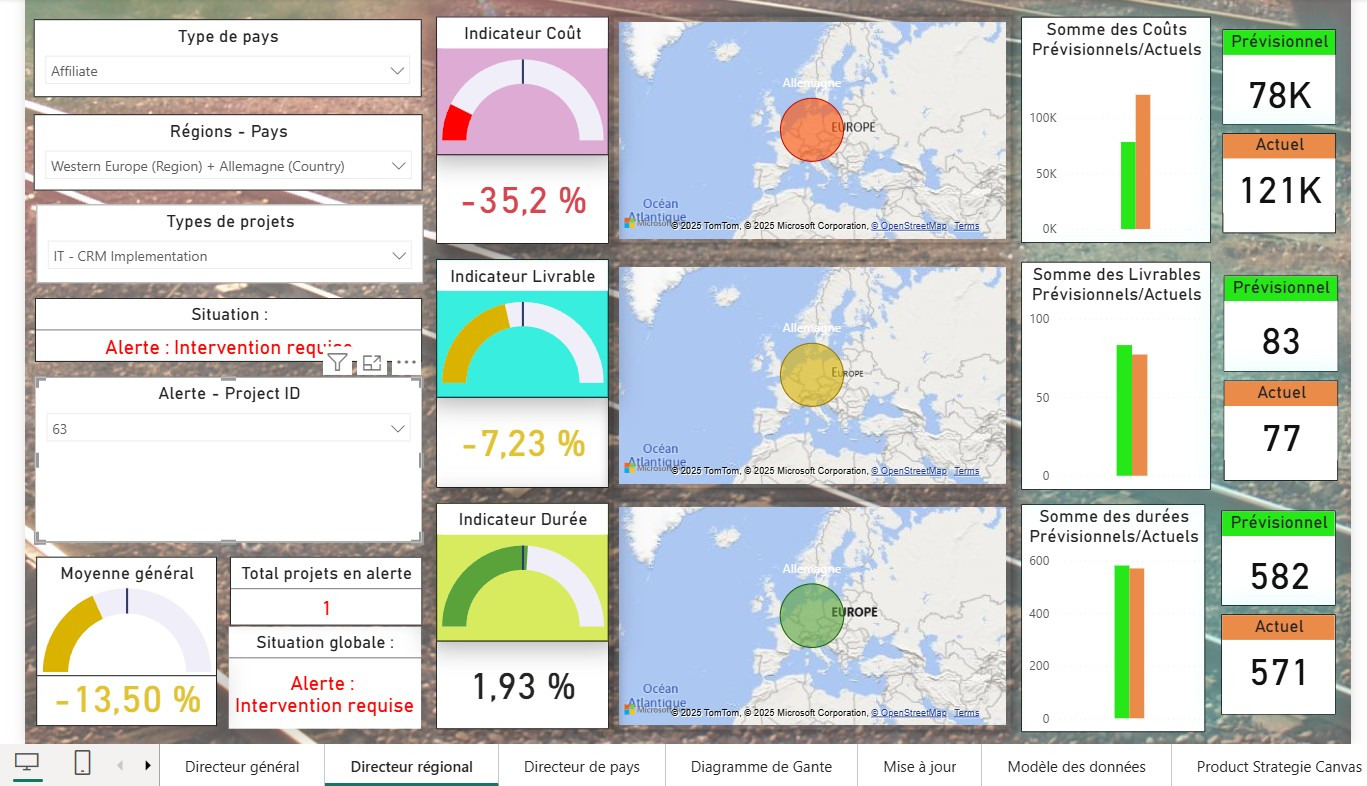

This screenshot's page, from the dashboard's own definition file:
{"tool":"powerbi","page":{"name":"Directeur régional","canvas":[1280,720],"ordinal":1},"visuals":[{"type":"clusteredColumnChart","title":"Somme des Coûts Prévisionnels/Actuels","fields":{"Y":["Sum(Data Par Projet.Planned Cost Par Projet)","Sum(Data Par Projet.Actual Cost Par Projet)"]},"box":[961,18.6,183.1,218.6],"z":0},{"type":"card","title":"Indicateur Livrable","fields":{"Values":["Projects_plans.Indicateur Livrable"]},"box":[396.6,384.7,166.1,88.1],"z":1000},{"type":"clusteredColumnChart","title":"Somme des durées Prévisionnels/Actuels","fields":{"Y":["Projects_plans.SommeDuréePrévisionnels","Actual Duration.SommeDuréeActuel"]},"box":[961,488.1,178,220.3],"z":2000},{"type":"clusteredColumnChart","title":"Somme des Livrables Prévisionnels/Actuels","fields":{"Y":["Projects_plans.SommeLivrablesPrévisionnels","Actual Delivrables.SommeLivrablesActuels"]},"box":[961,254.2,183.1,220.3],"z":3000},{"type":"map","fields":{"Size":["Projects_plans.TailleCoût"],"Category":["Country_Location.Country"]},"box":[567.8,18.6,383.1,218.6],"z":4000},{"type":"card","title":"Situation globale :","fields":{"Values":["Data Par Projet.IndicateurAlerteStatique"]},"box":[197.2,606.9,185.6,98.2],"z":5000},{"type":"map","fields":{"Size":["Projects_plans.TailleLivrablme"],"Category":["Country_Location.Country"]},"box":[567.8,254.2,383.1,218.6],"z":6000},{"type":"map","fields":{"Size":["Projects_plans.TailleDurée"],"Category":["Country_Location.Country"]},"box":[567.8,486.4,383.1,220.3],"z":7000},{"type":"gauge","title":"Indicateur Livrable","fields":{"Y":["Projects_plans.Indicateur Livrable Valeur"]},"box":[396.6,252.5,166.1,133.9],"z":8000},{"type":"card","title":"Indicateur Livrable","fields":{"Values":["Projects_plans.Indicateur Coûts"]},"box":[396.6,150.8,166.1,86.4],"z":9000},{"type":"gauge","title":"Indicateur Coût","fields":{"Y":["Projects_plans.Indicateur Coûts Valeur"]},"box":[396.6,18.6,166.1,133.9],"z":10000},{"type":"card","title":"Indicateur Livrable","fields":{"Values":["Projects_plans.Indicateur Durée"]},"box":[397.3,620.5,166.2,85.5],"z":11000},{"type":"gauge","title":"Indicateur Durée","fields":{"Y":["Projects_plans.Indicateur Durée Valeur"]},"box":[396.5,487.2,166.3,133.7],"z":12000},{"type":"card","title":"Total projets en alerte","fields":{"Values":["Data Par Projet.NombreProjetsAlerteSansFiltre"]},"box":[197.5,539.7,185.2,66.5],"z":13000},{"type":"cardVisual","title":"Prévisionnel","fields":{"Data":["Projects_plans.SommeCoûtsPrévisionnels"]},"box":[1155.8,30.3,109.2,91.8],"z":14000},{"type":"cardVisual","title":"Actuel","fields":{"Data":["Actual_Costs.SommeCoûtsActuels"]},"box":[1155.8,130,109.2,96.6],"z":15000},{"type":"cardVisual","title":"Prévisionnel","fields":{"Data":["Projects_plans.SommeLivrablesPrévisionnels"]},"box":[1157.4,268,110,92.5],"z":16000},{"type":"cardVisual","title":"Actuel","fields":{"Data":["Actual Delivrables.SommeLivrablesActuels"]},"box":[1157.5,368.8,110.4,96.6],"z":17000},{"type":"cardVisual","title":"Prévisionnel","fields":{"Data":["Projects_plans.SommeDuréePrévisionnels"]},"box":[1154.6,494.9,110.4,92],"z":18000},{"type":"cardVisual","title":"Actuel","fields":{"Data":["Actual Duration.SommeDuréeActuel"]},"box":[1154.6,594.6,110.4,96.6],"z":19000},{"type":"card","title":"Indicateur Livrable","fields":{"Values":["Projects_plans.Indicateur Moyenne"]},"box":[10.7,648.9,174.1,53.8],"z":20000},{"type":"gauge","title":"Moyenne général","fields":{"Y":["Projects_plans.Indicateur Moyenne Valeur"]},"box":[10.7,539.7,174.1,115.6],"z":21000},{"type":"slicer","title":"Régions - Pays","fields":{"Values":["Country_Location.Region","Country_Location.Country"]},"box":[7.9,112,375.4,73.6],"z":22000},{"type":"slicer","title":"Types de projets","fields":{"Values":["Project type.Project Type"]},"box":[11.1,199.4,373.6,76],"z":23000},{"type":"slicer","title":"Alerte - Project ID","fields":{"Values":["Data Par Projet.ID","Data Par Projet.AlerteParProjet"]},"box":[9.5,365.7,373.6,159.9],"z":24000},{"type":"slicer","title":"Type de pays","fields":{"Values":["Country_Location.Type"]},"box":[7.9,20.7,374.2,74.8],"z":25000},{"type":"card","title":"Situation :","fields":{"Values":["Projects_plans.IndicateurAlerteParPhases"]},"box":[9.1,290,373.6,61.7],"z":26000}]}

Visuals, with their boxes on the page's 1280x720 design canvas (x1, y1, x2, y2). These are canvas units, not pixel positions in the 1367x786 screenshot, which may show the page scaled, cropped or inside an application window:
"Somme des Coûts Prévisionnels/Actuels" clusteredColumnChart: left=961, top=19, right=1144, bottom=237
"Indicateur Livrable" card: left=397, top=385, right=563, bottom=473
"Somme des durées Prévisionnels/Actuels" clusteredColumnChart: left=961, top=488, right=1139, bottom=708
"Somme des Livrables Prévisionnels/Actuels" clusteredColumnChart: left=961, top=254, right=1144, bottom=474
map - Projects_plans.TailleCoût x Country_Location.Country: left=568, top=19, right=951, bottom=237
"Situation globale :" card: left=197, top=607, right=383, bottom=705
map - Projects_plans.TailleLivrablme x Country_Location.Country: left=568, top=254, right=951, bottom=473
map - Projects_plans.TailleDurée x Country_Location.Country: left=568, top=486, right=951, bottom=707
"Indicateur Livrable" gauge: left=397, top=252, right=563, bottom=386
"Indicateur Livrable" card: left=397, top=151, right=563, bottom=237
"Indicateur Coût" gauge: left=397, top=19, right=563, bottom=152
"Indicateur Livrable" card: left=397, top=620, right=564, bottom=706
"Indicateur Durée" gauge: left=396, top=487, right=563, bottom=621
"Total projets en alerte" card: left=198, top=540, right=383, bottom=606
"Prévisionnel" cardVisual: left=1156, top=30, right=1265, bottom=122
"Actuel" cardVisual: left=1156, top=130, right=1265, bottom=227
"Prévisionnel" cardVisual: left=1157, top=268, right=1267, bottom=360
"Actuel" cardVisual: left=1158, top=369, right=1268, bottom=465
"Prévisionnel" cardVisual: left=1155, top=495, right=1265, bottom=587
"Actuel" cardVisual: left=1155, top=595, right=1265, bottom=691
"Indicateur Livrable" card: left=11, top=649, right=185, bottom=703
"Moyenne général" gauge: left=11, top=540, right=185, bottom=655
"Régions - Pays" slicer: left=8, top=112, right=383, bottom=186
"Types de projets" slicer: left=11, top=199, right=385, bottom=275
"Alerte - Project ID" slicer: left=10, top=366, right=383, bottom=526
"Type de pays" slicer: left=8, top=21, right=382, bottom=96
"Situation :" card: left=9, top=290, right=383, bottom=352
